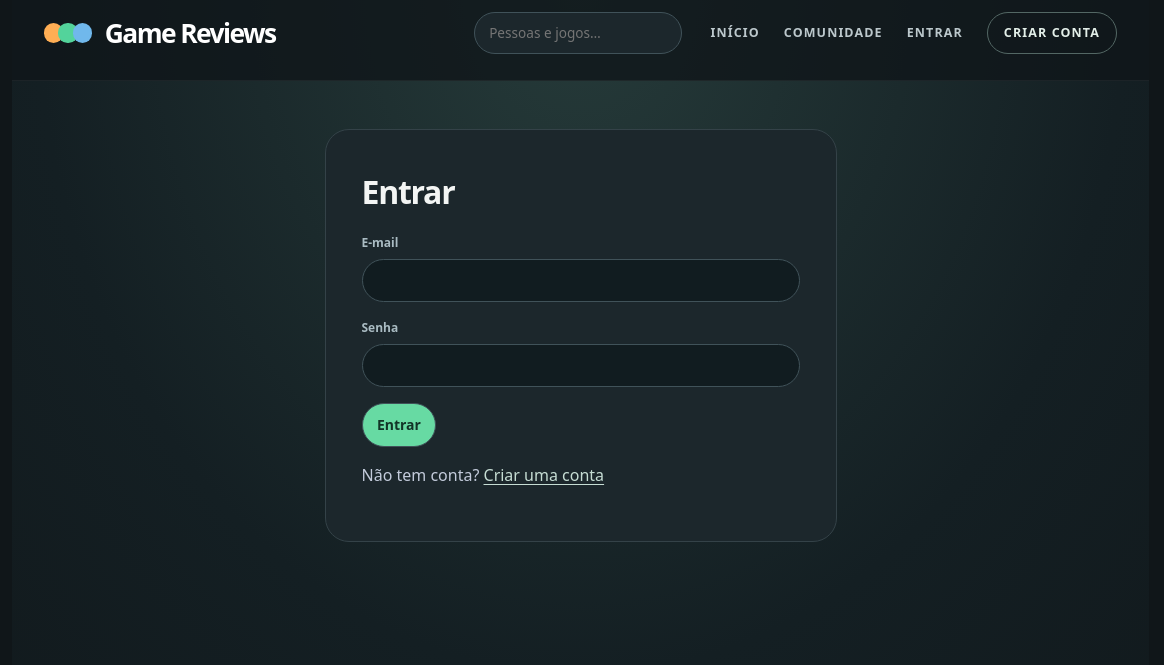
Test: review existente vem de reviews/me e bloqueia nova publicação
In the field labelled "E-mail": (580, 280) x1=362 y1=259 x2=800 y2=302, type "test@example.com"
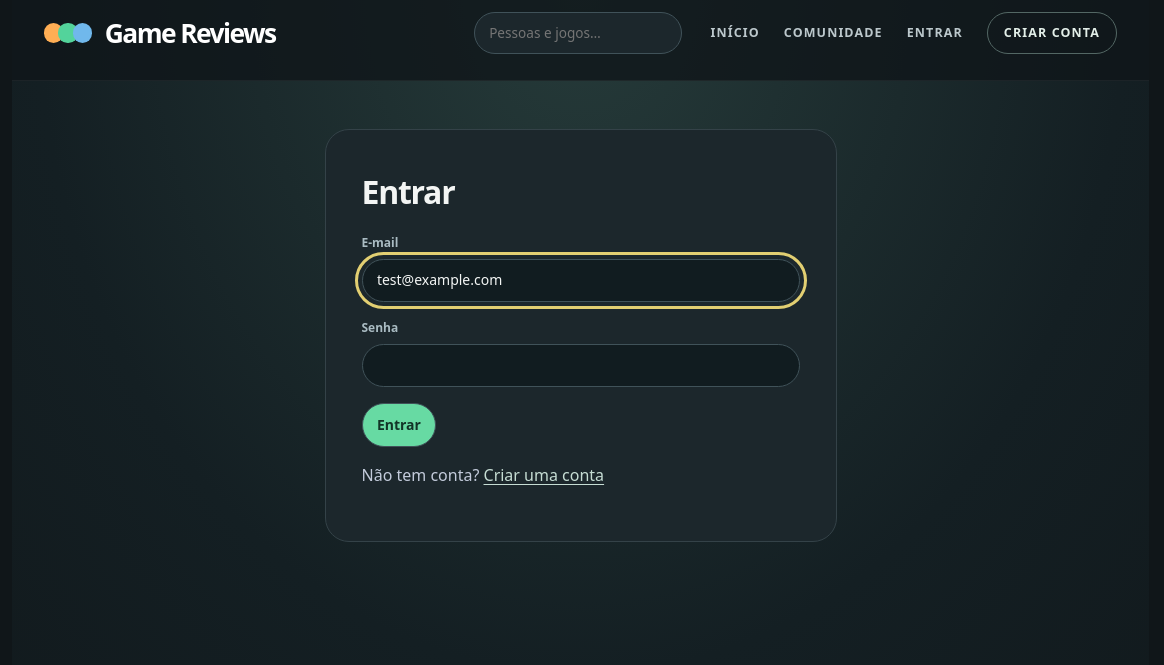
In the password field labelled "Senha": (580, 366) x1=362 y1=344 x2=800 y2=388, type "test-only"
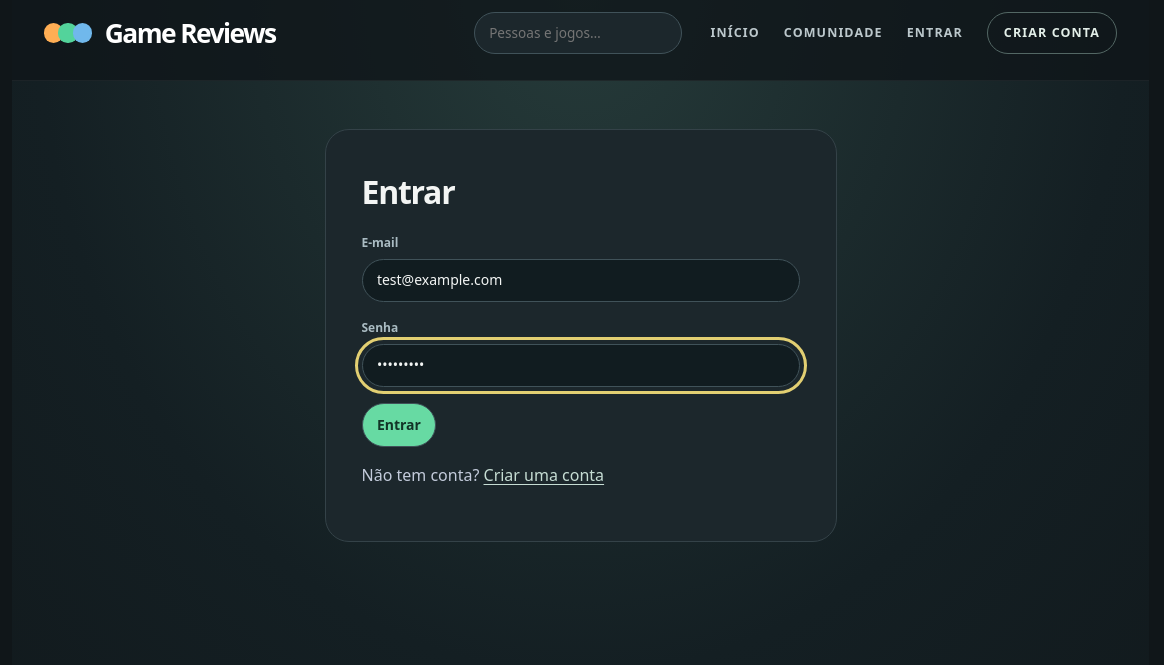
Click the button "Entrar": (399, 425) x1=362 y1=403 x2=436 y2=447
(page scrolled)
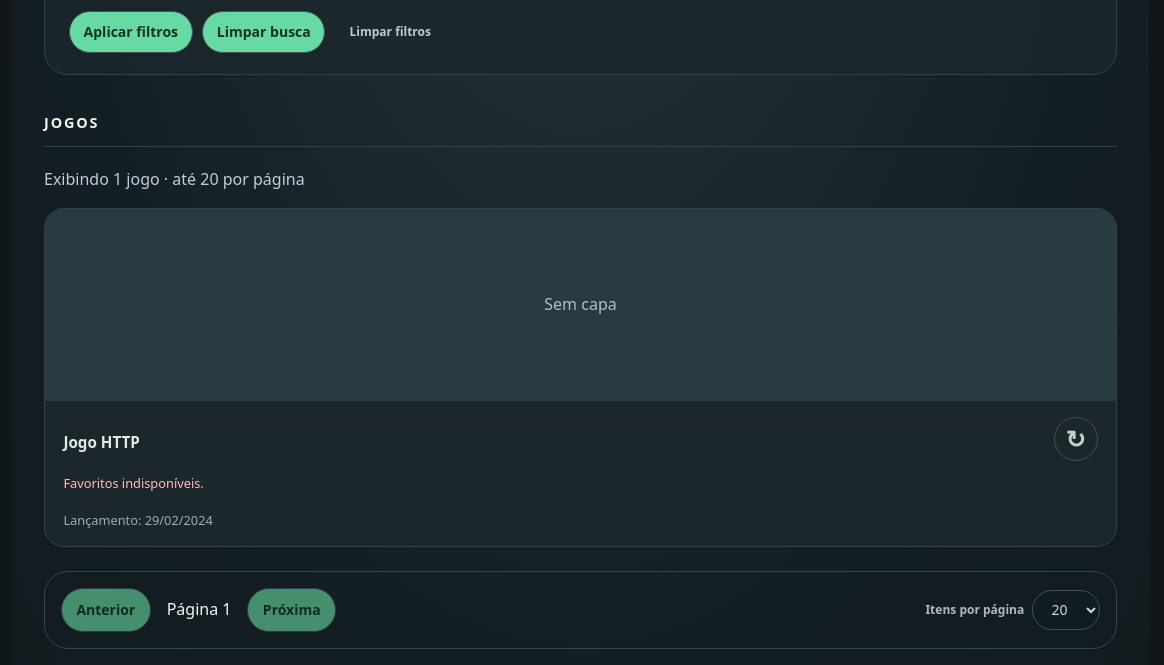
Click the link "Jogo HTTP": (102, 442) x1=63 y1=432 x2=140 y2=452
(page scrolled)
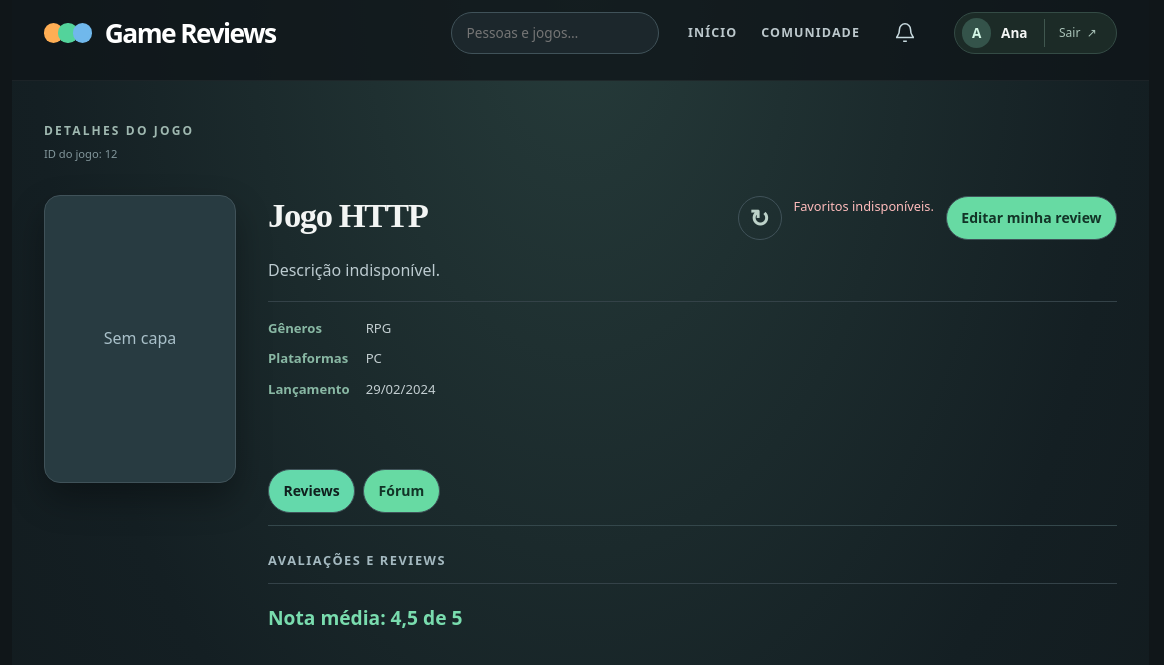
Expected: the button "Editar minha review" is shown, x1=946 y1=196 x2=1117 y2=240
